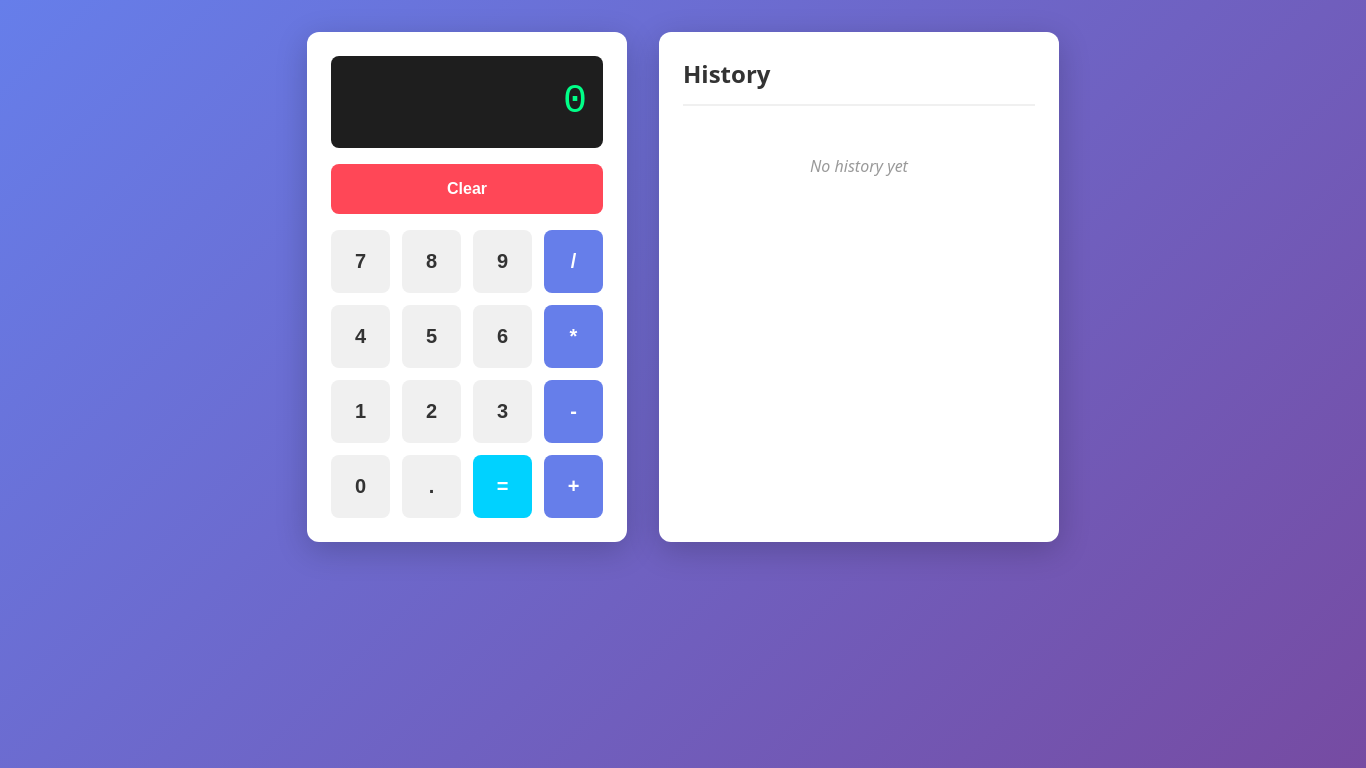
Test case: Calculator Component › Number input › should display single digit when clicked
Click the button with test id "btn-5" at x=432, y=336, box [402, 305, 461, 368]
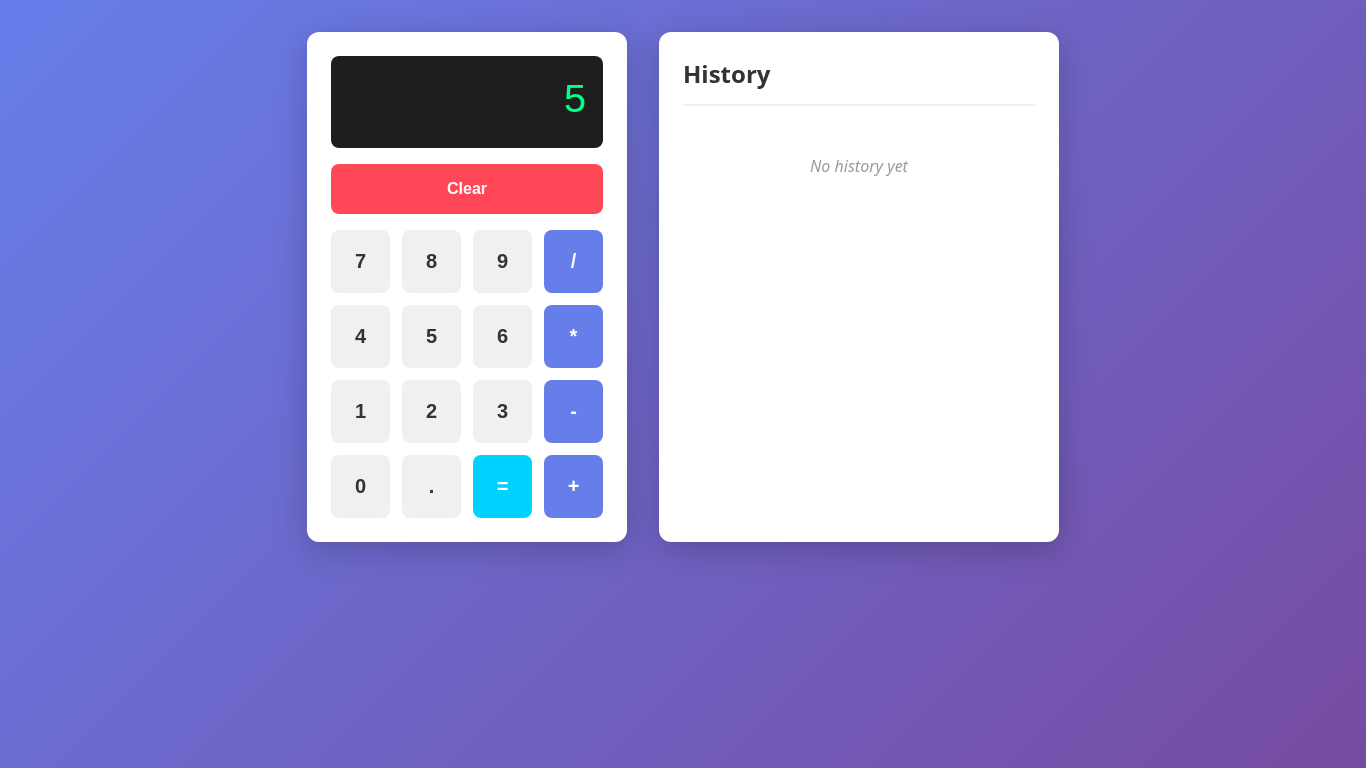
Expected: the text with test id "display" reads "5", [563, 79, 587, 124]
